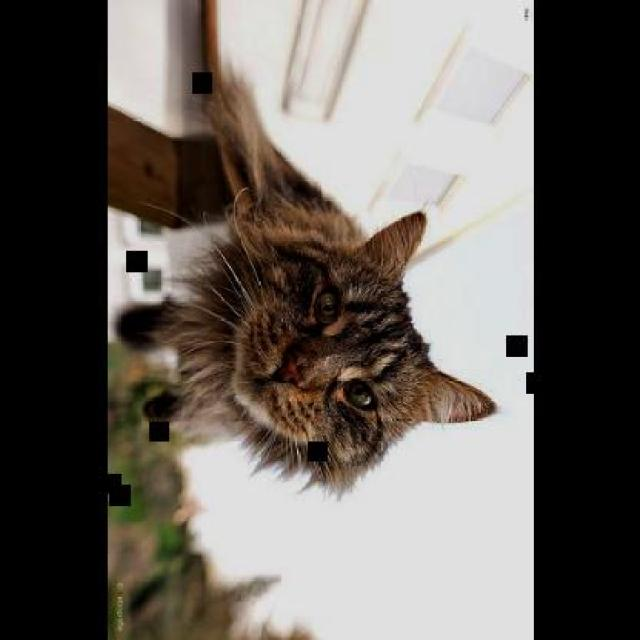unauthorized: (114, 61, 497, 498)
